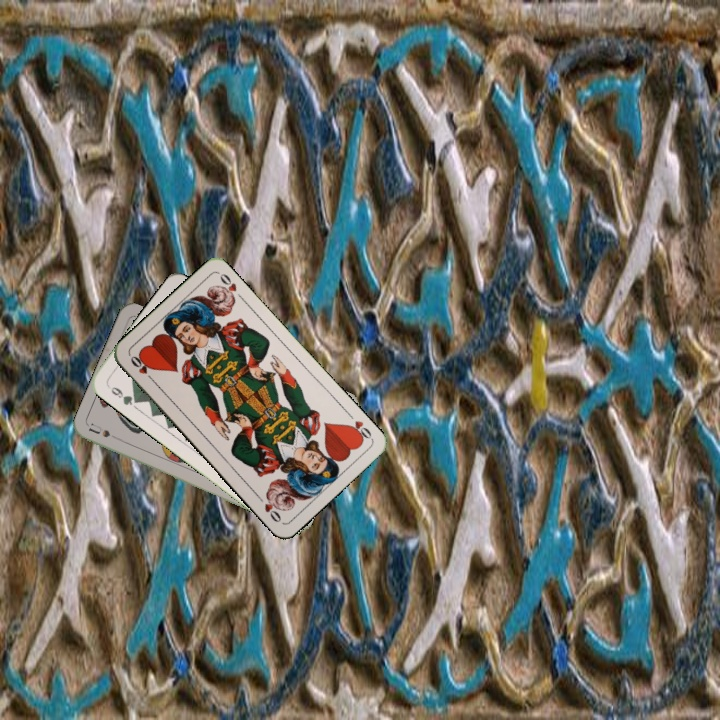G9: (103, 381, 142, 408)
HO: (343, 408, 374, 444), (126, 352, 157, 385)
SU: (85, 420, 125, 444)
